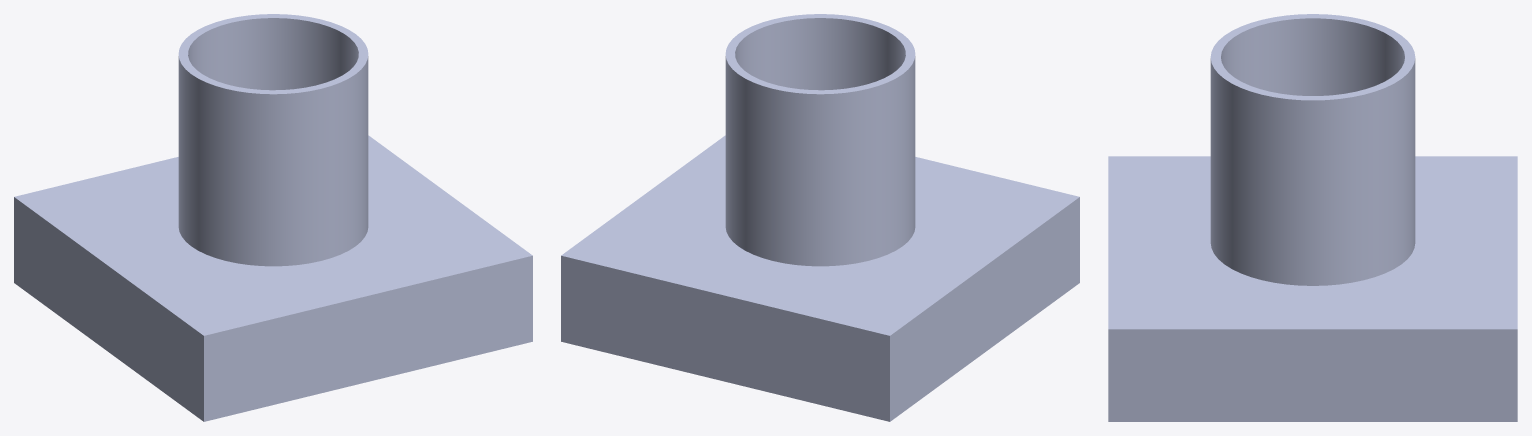
File: AssemTest2.glb
The picture shows the model from 3 angles, left to right: view 1: azimuth 30°, elevation 25°; view 2: azimuth 150°, elevation 25°; view 3: azimuth 270°, elevation 25°; orthographic projection. The views are drawn at different scales.
Parts seen in each view (by area): view 1: CylinderbaseSLDPRT-1, cylinderpart-1; view 2: CylinderbaseSLDPRT-1, cylinderpart-1; view 3: CylinderbaseSLDPRT-1, cylinderpart-1.
Boxes of the visible parts, x1,y1,x2,y2 form: CylinderbaseSLDPRT-1: (14, 135, 532, 421); cylinderpart-1: (178, 14, 368, 266); CylinderbaseSLDPRT-1: (561, 135, 1079, 421); cylinderpart-1: (725, 14, 915, 266); CylinderbaseSLDPRT-1: (1108, 156, 1517, 421); cylinderpart-1: (1210, 14, 1415, 285).
Bounding box in the file's own units: 0.1 × 0.075 × 0.1.
